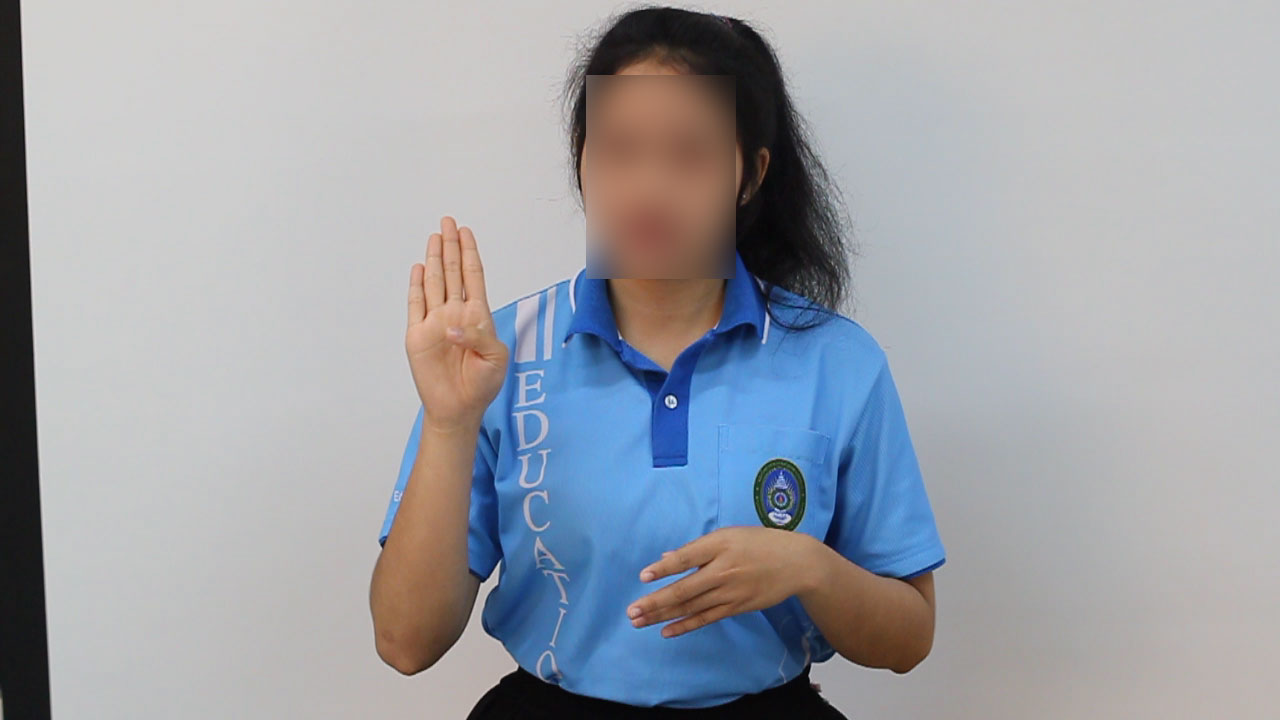bor: (388, 200, 525, 459)
